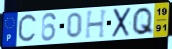0: (65, 11, 84, 40)
6: (41, 12, 57, 43)
C: (16, 12, 39, 45)
H: (84, 8, 109, 40)
Q: (130, 6, 155, 37)
X: (111, 6, 133, 39)
